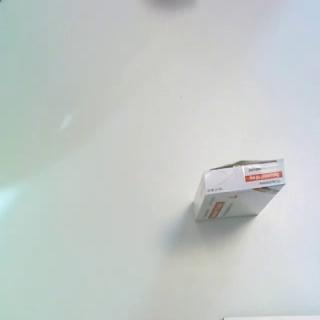dolcontin10mg: (192, 157, 288, 224)
